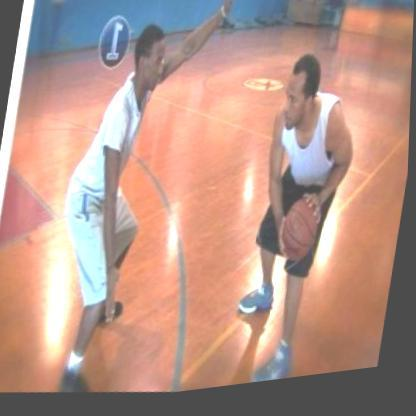basketball: (273, 195, 329, 276)
